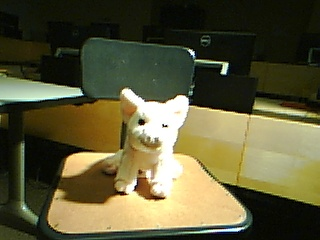piggy: (101, 85, 190, 200)
